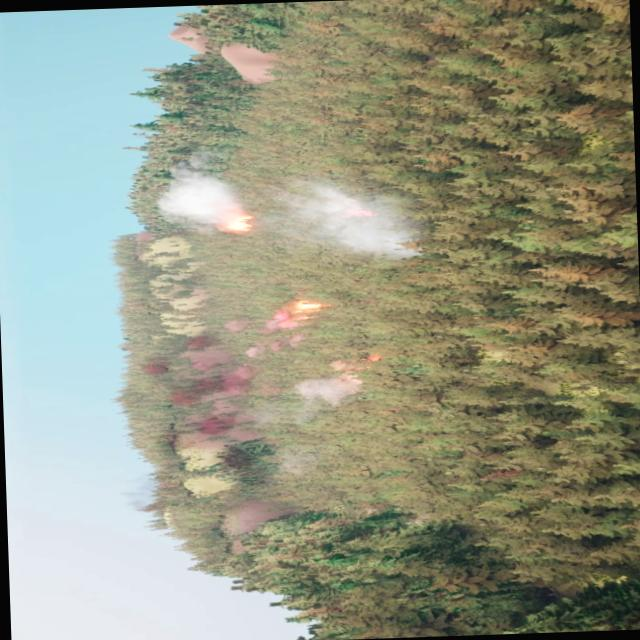fire: (280, 289, 328, 323), (218, 212, 252, 233)
smoke: (292, 167, 414, 260), (154, 164, 256, 226), (287, 344, 371, 411)
